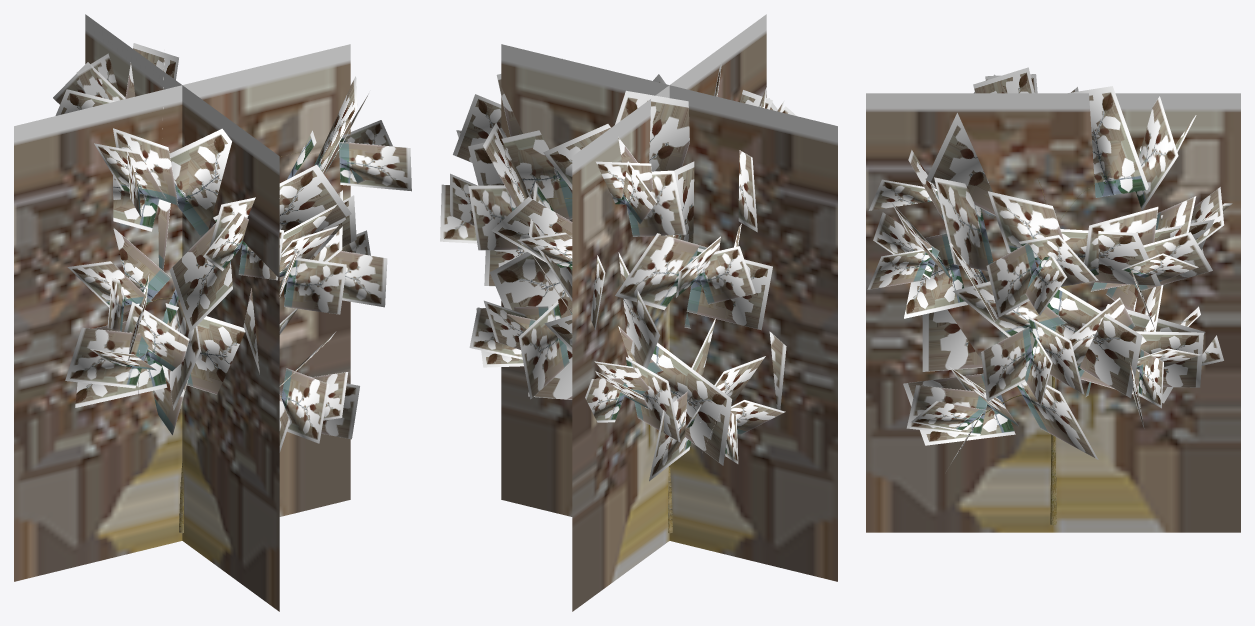
File: Shrub1-1D.fbx
The picture shows the model from 3 angles, left to right: view 1: azimuth 30°, elevation 25°; view 2: azimuth 150°, elevation 25°; view 3: azimuth 270°, elevation 25°; orthographic projection. The views are drawn at different scales.
Parts seen in each view (by area): view 1: Billboard-Shrub1-1D, Shrub1-1D_LOD0; view 2: Billboard-Shrub1-1D, Shrub1-1D_LOD0; view 3: Billboard-Shrub1-1D, Shrub1-1D_LOD0.
Part boxes in pixels (bbox=[...]): Billboard-Shrub1-1D: bbox=[14, 14, 350, 611]; Shrub1-1D_LOD0: bbox=[53, 43, 411, 533]; Billboard-Shrub1-1D: bbox=[501, 14, 837, 611]; Shrub1-1D_LOD0: bbox=[440, 58, 796, 533]; Billboard-Shrub1-1D: bbox=[866, 93, 1240, 532]; Shrub1-1D_LOD0: bbox=[867, 67, 1232, 525].
Size of what is drawn, in the model's own units: 285 by 336 by 252.
